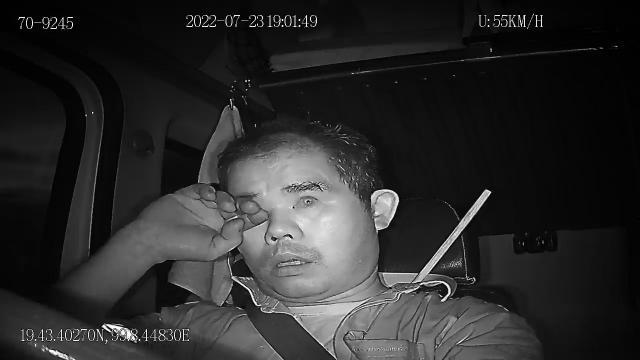SafeDriving: (291, 186, 326, 212)
Seatbelt: (246, 307, 338, 360)
